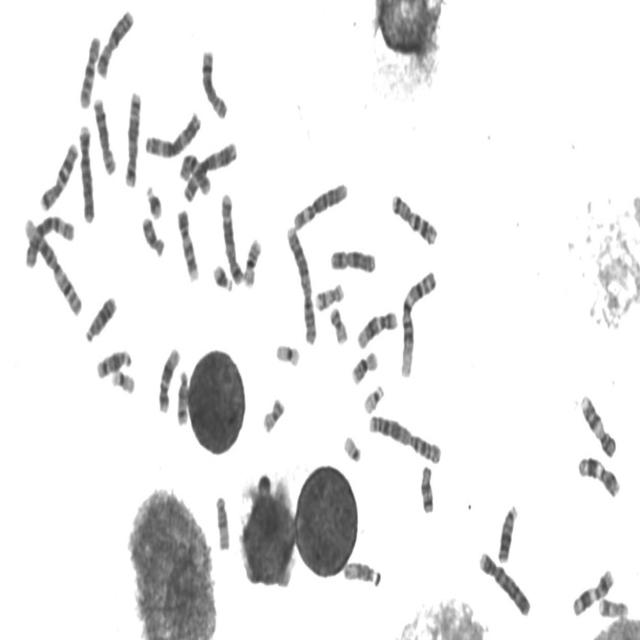A1: (21, 212, 83, 318), (397, 265, 438, 380)
A2: (366, 408, 443, 466), (284, 223, 318, 347)
A3: (180, 137, 238, 205), (142, 107, 203, 159)
B4: (477, 548, 532, 618), (76, 120, 97, 225)
B5: (218, 188, 244, 286), (122, 86, 142, 189)
C10: (77, 30, 102, 111), (177, 150, 213, 197)
C11: (570, 564, 616, 618), (576, 452, 622, 500)
C12: (355, 306, 399, 351), (156, 342, 181, 414)
C6: (21, 209, 76, 271), (290, 177, 348, 233)
C7: (37, 138, 80, 214), (389, 188, 439, 246)
C8: (199, 45, 229, 120), (90, 94, 117, 176)
C9: (578, 390, 618, 459), (175, 205, 200, 284)
D13: (83, 291, 118, 345), (496, 500, 520, 564)
D14: (94, 345, 133, 381), (175, 366, 190, 427)
D15: (341, 557, 380, 588), (213, 490, 231, 553)
E16: (241, 233, 263, 290), (350, 347, 380, 386)
E17: (313, 279, 345, 313), (596, 594, 630, 620)
E18: (139, 212, 166, 259), (418, 461, 435, 515)
F19: (274, 339, 302, 369), (109, 366, 136, 396)
F20: (260, 393, 286, 435), (327, 304, 349, 346)
G21: (210, 260, 234, 294), (144, 180, 164, 220)
G22: (361, 381, 385, 416), (341, 431, 362, 464)
X: (94, 5, 135, 80), (328, 245, 377, 275)
